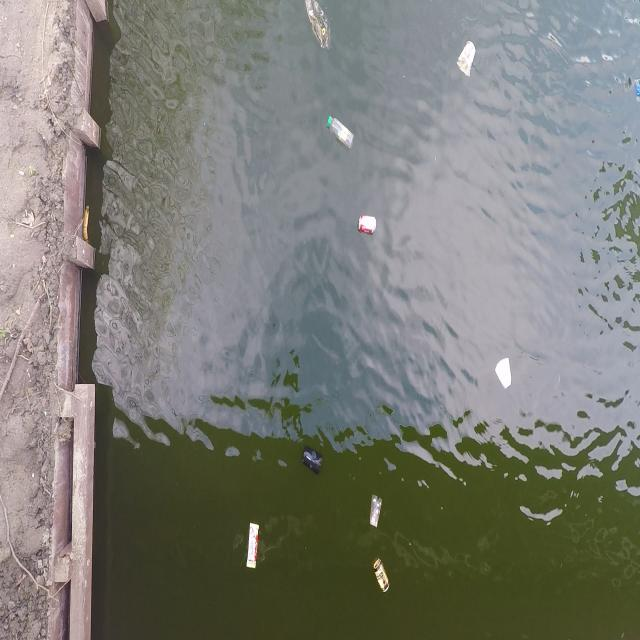Bouteille plastique: (323, 106, 359, 153)
Non plastique: (454, 31, 480, 79), (372, 555, 393, 601), (354, 209, 382, 239), (496, 350, 514, 391)
